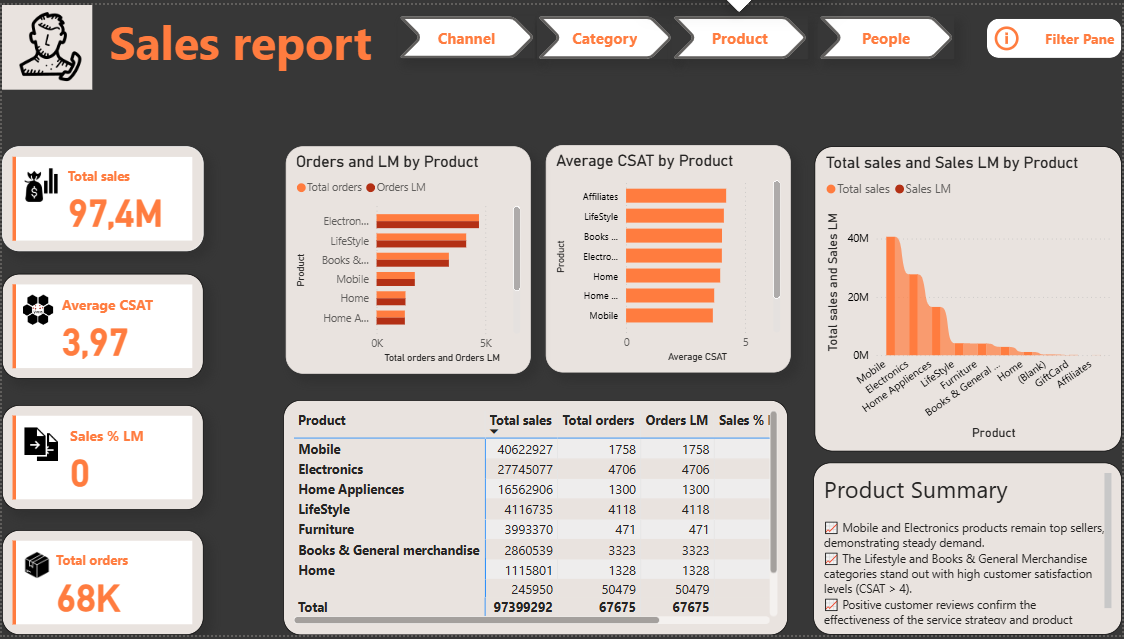

Layout of this report page (visuals, bound fields, positions):
{"tool":"powerbi","page":{"name":"Page 1","canvas":[1280,720],"ordinal":0},"visuals":[{"type":"cardVisual","fields":{"Data":["Measures Table.Total sales"]},"box":[0,161.4,230,120],"z":0},{"type":"donutChart","fields":{"Y":["Measures Table.Average CSAT"],"Series":["Channel.Channel"]},"box":[619.8,161.4,280,260],"z":0,"group":"g1"},{"type":"donutChart","fields":{"Category":["Channel.Channel"],"Y":["Measures Table.Total orders"]},"box":[331.2,161.4,280,260],"z":1000,"group":"g1"},{"type":"cardVisual","fields":{"Data":["Measures Table.Total orders"]},"box":[0,600,230,120],"z":1000},{"type":"lineStackedColumnComboChart","fields":{"Category":["Channel.Channel"],"Y":["Measures Table.Total sales","Measures Table.Sales LM"]},"box":[929.6,160,350,348.6],"z":2000,"group":"g1"},{"type":"cardVisual","fields":{"Data":["Measures Table.Average CSAT"]},"box":[0,307.1,230,120],"z":2000},{"type":"pivotTable","fields":{"Values":["Measures Table.Sales % LM","Measures Table.Sales LM","Measures Table.Total orders","Measures Table.Total sales","Measures Table.Orders LM"],"Rows":["Channel.Channel"]},"box":[329.6,456.6,577.1,262.9],"z":3000,"group":"g1"},{"type":"cardVisual","fields":{"Data":["Measures Table.Sales % LM"]},"box":[0,457.1,230,120],"z":3000},{"type":"image","box":[0,0,103.3,96.7],"z":4000},{"type":"textbox","box":[928.2,529.4,350,190],"z":4000,"group":"g1"},{"type":"textbox","box":[103.3,0,345,83.3],"z":5000},{"type":"actionButton","box":[1118.3,18.3,153.7,44.8],"z":5000,"group":"g1"},{"type":"actionButton","box":[561.5,118.6,50.6,43.6],"z":5000},{"type":"group","id":"g1","title":"Channel","box":[329.6,18.3,950,701.2],"z":7000},{"type":"actionButton","title":"Channel","box":[452.8,12.8,156,48],"z":15000},{"type":"actionButton","title":"Channel","box":[611,12.8,155,48.8],"z":16000},{"type":"actionButton","title":"Channel","box":[766,12.8,155,48.8],"z":17000},{"type":"actionButton","title":"Channel","box":[932.3,12.8,155,48.8],"z":18000}]}

Visuals, with their boxes in screenshot pixels (x1, y1, x2, y2), scaled from the page's 1280x720 canvas onto the 1124x639 screenshot:
cardVisual - Measures Table.Total sales: bbox(0, 143, 202, 250)
donutChart - Measures Table.Average CSAT x Channel.Channel: bbox(544, 143, 790, 374)
donutChart - Channel.Channel x Measures Table.Total orders: bbox(291, 143, 537, 374)
cardVisual - Measures Table.Total orders: bbox(0, 532, 202, 638)
lineStackedColumnComboChart - Channel.Channel x Measures Table.Total sales: bbox(816, 142, 1123, 451)
cardVisual - Measures Table.Average CSAT: bbox(0, 273, 202, 379)
pivotTable - Measures Table.Sales % LM x Measures Table.Sales LM: bbox(289, 405, 796, 638)
cardVisual - Measures Table.Sales % LM: bbox(0, 406, 202, 512)
image: bbox(0, 0, 91, 86)
textbox: bbox(815, 470, 1122, 638)
textbox: bbox(91, 0, 394, 74)
actionButton: bbox(982, 16, 1117, 56)
actionButton: bbox(493, 105, 538, 144)
"Channel" group: bbox(289, 16, 1123, 638)
"Channel" actionButton: bbox(398, 11, 535, 54)
"Channel" actionButton: bbox(537, 11, 673, 55)
"Channel" actionButton: bbox(673, 11, 809, 55)
"Channel" actionButton: bbox(819, 11, 955, 55)
